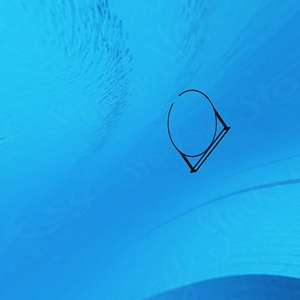circle: (166, 89, 231, 176)
